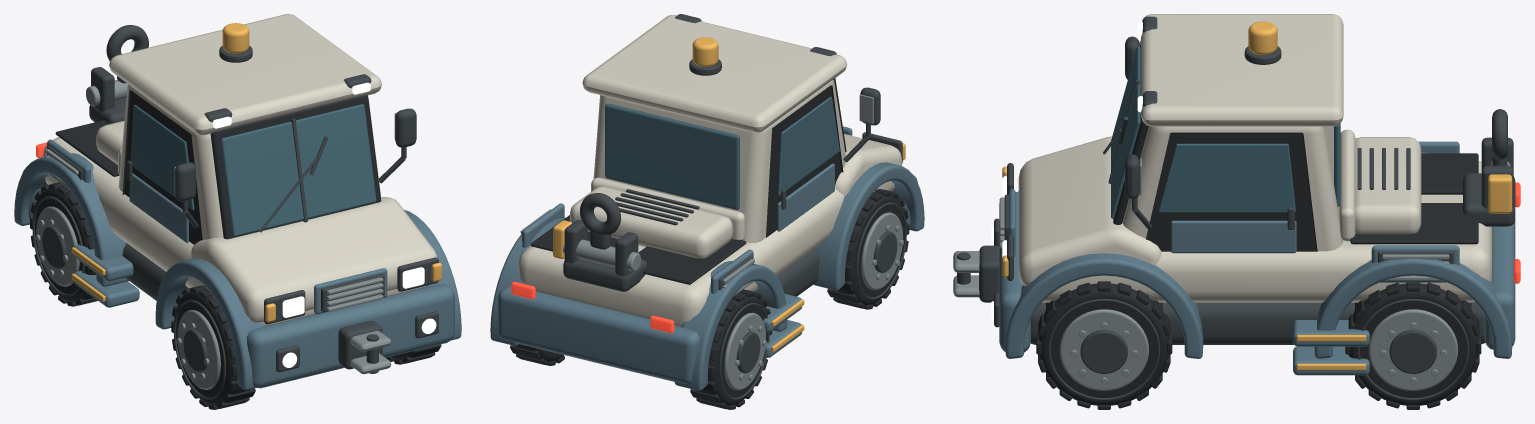
Rendered from airport_cargo_tug.glb.
3 views of the same model, side by side, from view 1: azimuth 30°, elevation 25°; view 2: azimuth 150°, elevation 25°; view 3: azimuth 270°, elevation 25° (orthographic). The views are drawn at different scales.
Visible parts, largest first — view 1: Shallow rounded cab roof, Sloping rounded short hood, Wide smoked front glazing, Front slate bumper, Ivory continuous waist, front -1 rounded wheel-arch fender, rear -1 rounded wheel-arch fender, Wide windshield rubber surround, Cab side glazing -1, Enclosed cabin shell, Cab door gasket -1, front wheel -1 tire (+32 smaller); view 2: Shallow rounded cab roof, Rear slate bumper, Rear cabin glazing, Ivory continuous waist, Enclosed cabin shell, Rear power cover, front -1 rounded wheel-arch fender, rear -1 rounded wheel-arch fender, Cab side glazing -1, Cab door gasket -1, Rear deck rubber tread -1, front wheel -1 tire (+25 smaller); view 3: Shallow rounded cab roof, Ivory continuous waist, Sloping rounded short hood, Cab side glazing 1, Enclosed cabin shell, front 1 rounded wheel-arch fender, Cab door gasket 1, Rear power cover, rear 1 rounded wheel-arch fender, Low structural chassis, front wheel 1 tire, rear wheel 1 tire (+27 smaller).
Boxes of the visible parts, x1,y1,x2,y2 form: Shallow rounded cab roof: (109, 14, 381, 135); Sloping rounded short hood: (190, 197, 437, 322); Wide smoked front glazing: (221, 104, 376, 236); Front slate bumper: (246, 284, 454, 388); Ivory continuous waist: (42, 137, 426, 325); front -1 rounded wheel-arch fender: (155, 258, 264, 390); rear -1 rounded wheel-arch fender: (14, 153, 128, 286); Wide windshield rubber surround: (210, 95, 381, 239); Cab side glazing -1: (130, 105, 194, 210); Enclosed cabin shell: (118, 84, 380, 239); Cab door gasket -1: (122, 90, 202, 244); front wheel -1 tire: (173, 288, 251, 406); Shallow rounded cab roof: (582, 15, 847, 132); Rear slate bumper: (497, 286, 699, 383); Rear cabin glazing: (605, 103, 739, 209); Ivory continuous waist: (518, 181, 894, 326); Enclosed cabin shell: (593, 80, 845, 243); Rear power cover: (570, 186, 732, 258); front -1 rounded wheel-arch fender: (813, 162, 924, 290); rear -1 rounded wheel-arch fender: (674, 261, 787, 390); Cab side glazing -1: (777, 96, 839, 195); Cab door gasket -1: (766, 85, 843, 237); Rear deck rubber tread -1: (638, 239, 746, 284); front wheel -1 tire: (831, 192, 906, 306); Shallow rounded cab roof: (1141, 14, 1343, 126); Ivory continuous waist: (1022, 161, 1491, 302); Sloping rounded short hood: (1018, 136, 1161, 286); Cab side glazing 1: (1158, 143, 1295, 212); Enclosed cabin shell: (1122, 126, 1342, 251); front 1 rounded wheel-arch fender: (1005, 253, 1203, 358); Cab door gasket 1: (1146, 132, 1317, 251); Rear power cover: (1354, 137, 1421, 234); rear 1 rounded wheel-arch fender: (1314, 258, 1512, 358); Low structural chassis: (1030, 302, 1485, 344); front wheel 1 tire: (1038, 283, 1169, 405); rear wheel 1 tire: (1348, 283, 1478, 405).
Size of the model in its own units: 2.48 by 2.96 by 4.64.
